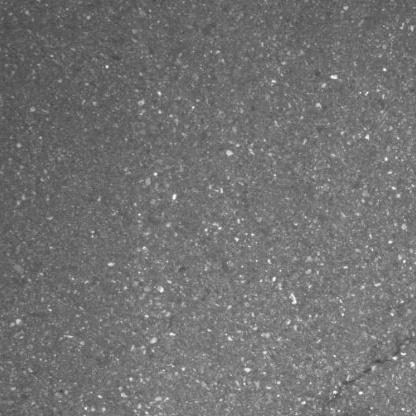Cracks: (323, 286, 416, 411)
